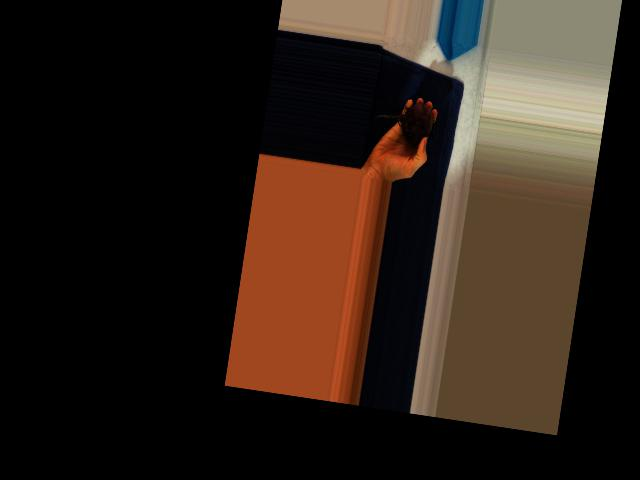beet: (371, 96, 440, 146)
